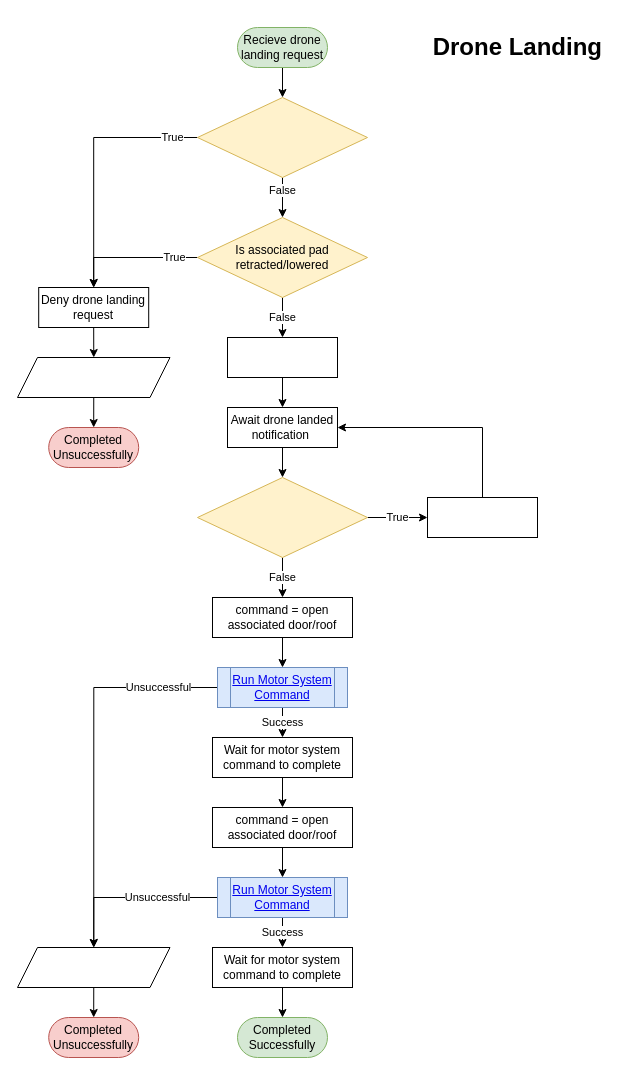
Some shapes in this 625 by 1075 pixel diagram are drawn without their labels. Here are the shapes that lost their labels. From the top down, the centre of each, then its label:
At (x=282, y=137): "Is associated door/roof closed".
At (x=93, y=377): "Report denied landing request".
At (x=282, y=357): "Accept drone landing request".
At (x=282, y=517): "Is drone too close to landing pad edge".
At (x=482, y=517): "Request drone landing retry".
At (x=93, y=967): "Report cause of failure".
